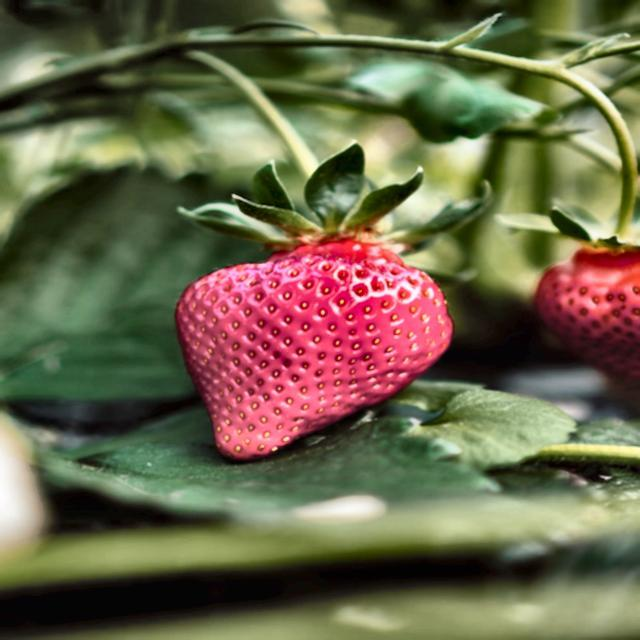strawberry: (176, 238, 452, 459), (535, 248, 640, 380)
